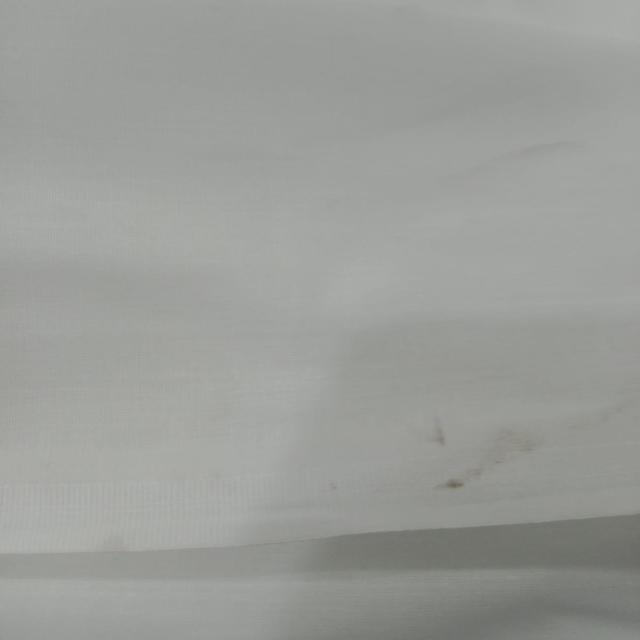stain: (413, 408, 564, 505)
